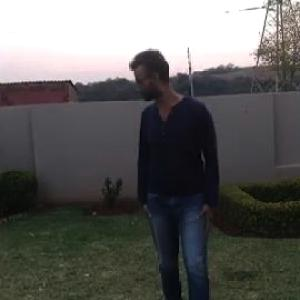follow: (128, 39, 224, 299)
